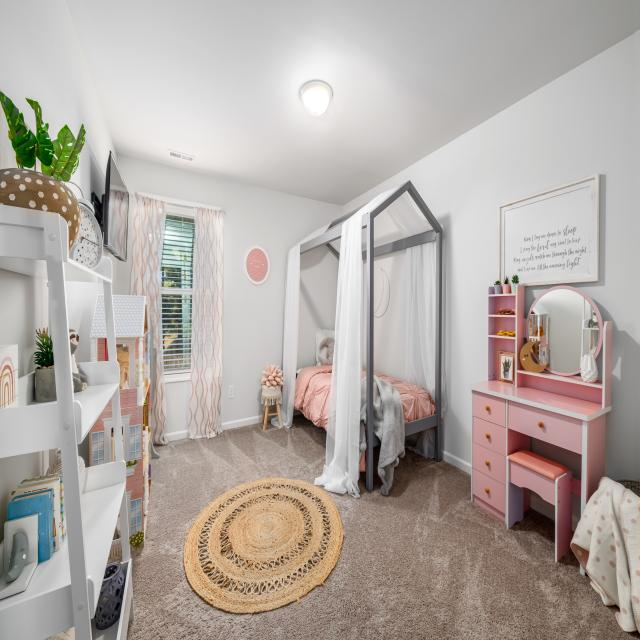floor: (126, 414, 640, 640)
wall: (343, 31, 640, 482), (116, 154, 343, 423), (296, 244, 339, 371), (0, 268, 49, 379), (0, 450, 50, 543), (374, 248, 407, 382), (65, 281, 104, 363), (530, 437, 582, 481), (115, 194, 134, 295), (164, 380, 190, 434), (524, 284, 561, 319), (0, 101, 18, 170), (244, 245, 270, 285), (102, 247, 115, 294), (363, 258, 367, 369), (595, 344, 603, 381), (36, 156, 42, 173), (27, 164, 35, 171)
